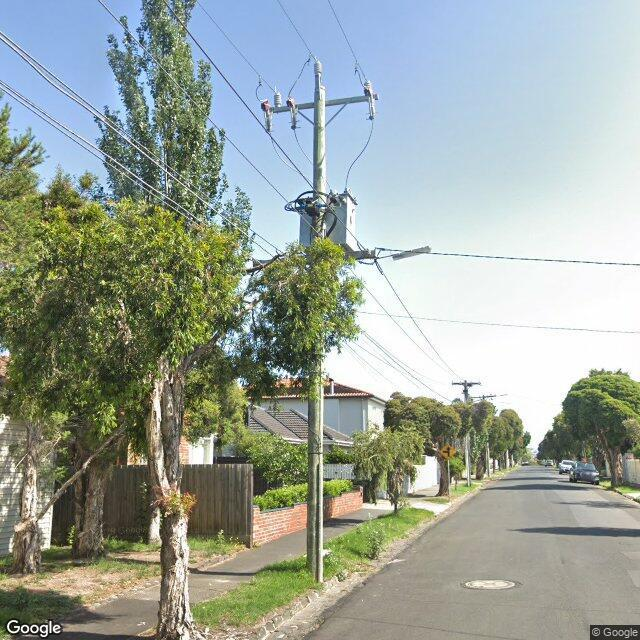HV-transmission: (257, 54, 375, 132)
crossarm: (252, 249, 375, 270), (269, 94, 380, 113), (451, 380, 482, 387), (472, 394, 496, 398)
streetlight: (378, 245, 433, 262), (485, 393, 508, 398)
timber-pole: (306, 87, 326, 582), (464, 381, 471, 486)
transformer: (284, 187, 359, 252)
